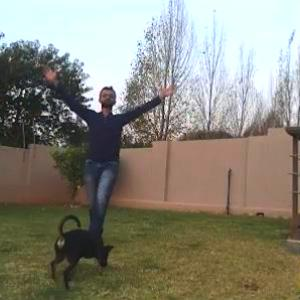takeoff: (0, 43, 179, 252)
